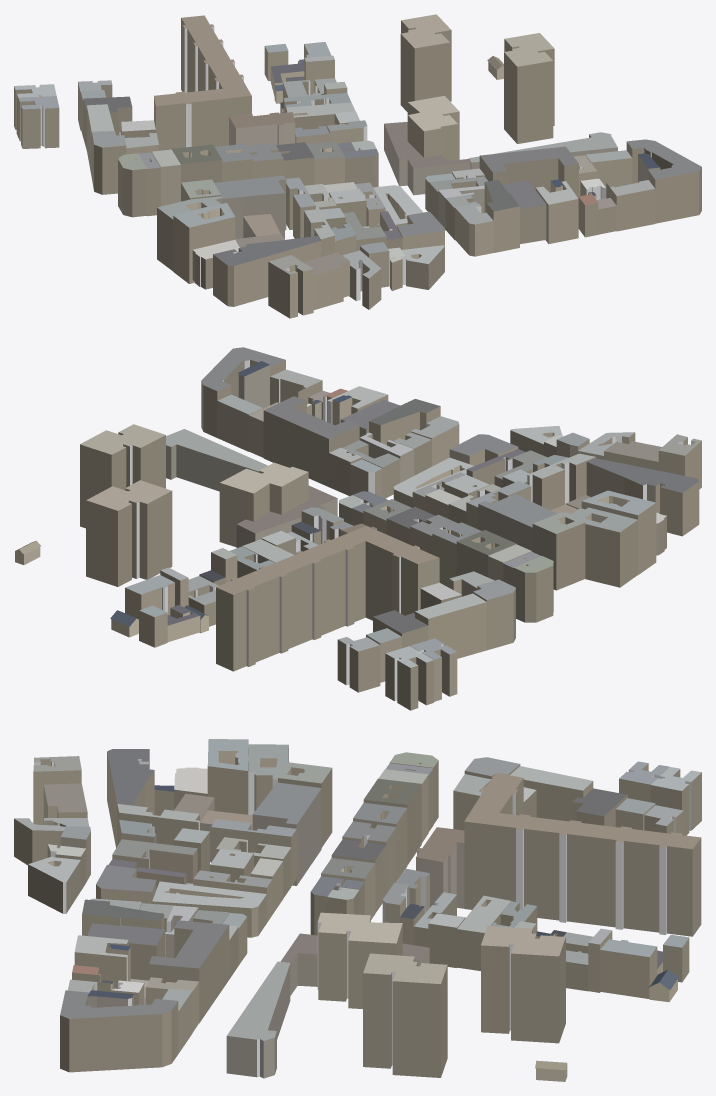
3 views of the same model, one above another, from view 1: azimuth 30°, elevation 25°; view 2: azimuth 150°, elevation 25°; view 3: azimuth 270°, elevation 25° (orthographic). The views are drawn at different scales.
Visible parts, largest first — view 1: tuile; view 2: tuile; view 3: tuile.
Part boxes in pixels (bbox=[...]): tuile: bbox=[14, 14, 701, 318]; tuile: bbox=[15, 347, 701, 710]; tuile: bbox=[14, 739, 701, 1081].
Bounding box in the file's own units: 251 × 41.08 × 269.
